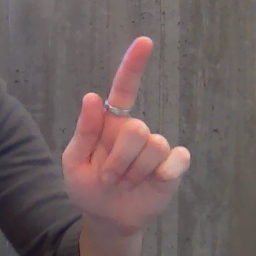F: (61, 36, 192, 224)
